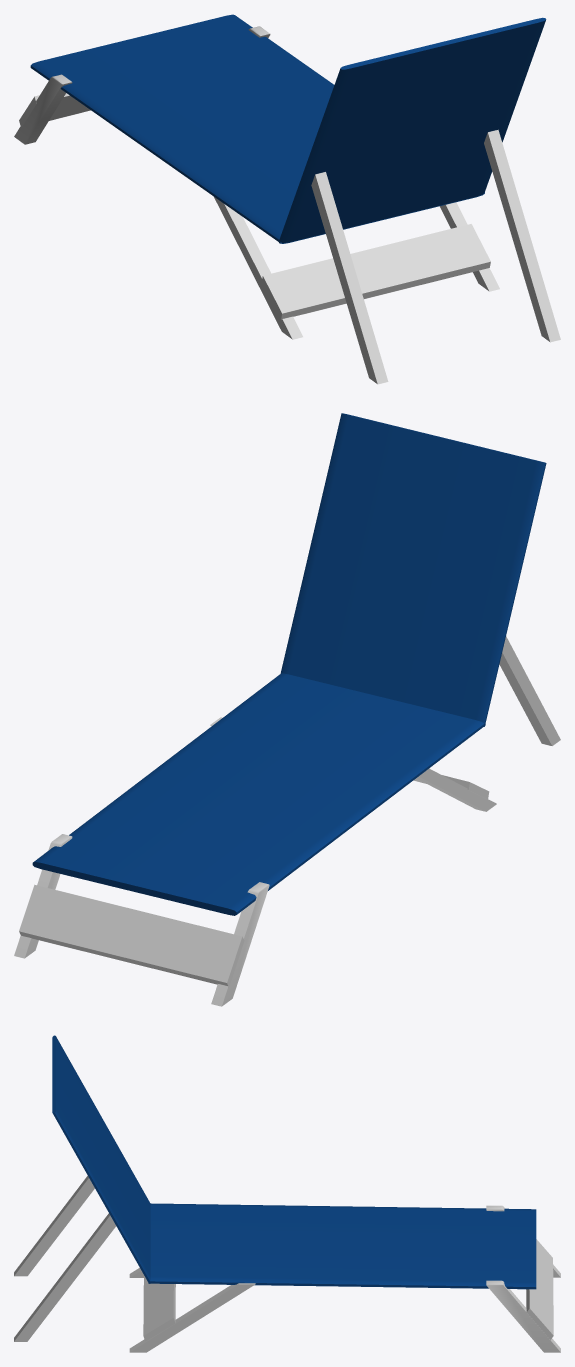
Rendered from Hamaca.fbx.
3 renders of one model, top to bottom at view 1: azimuth 30°, elevation 25°; view 2: azimuth 150°, elevation 25°; view 3: azimuth 270°, elevation 25°, orthographic. The views are drawn at different scales.
Visible parts, largest first — view 1: Object008; view 2: Object008; view 3: Object008.
Part boxes in pixels (bbox=[...]): Object008: bbox=[14, 14, 560, 384]; Object008: bbox=[14, 413, 560, 1006]; Object008: bbox=[14, 1035, 560, 1352].
Size of the model in its own units: 57.34 by 80.74 by 168.
